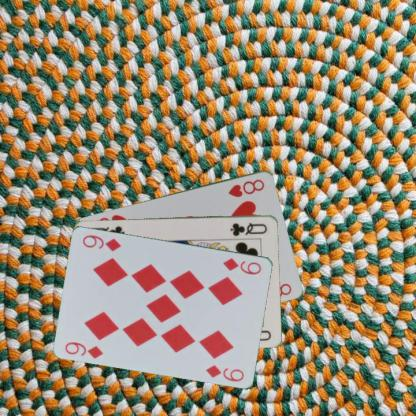8h: (225, 176, 266, 198)
9d: (221, 254, 263, 275), (63, 339, 104, 360)
Qc: (228, 219, 269, 237)
